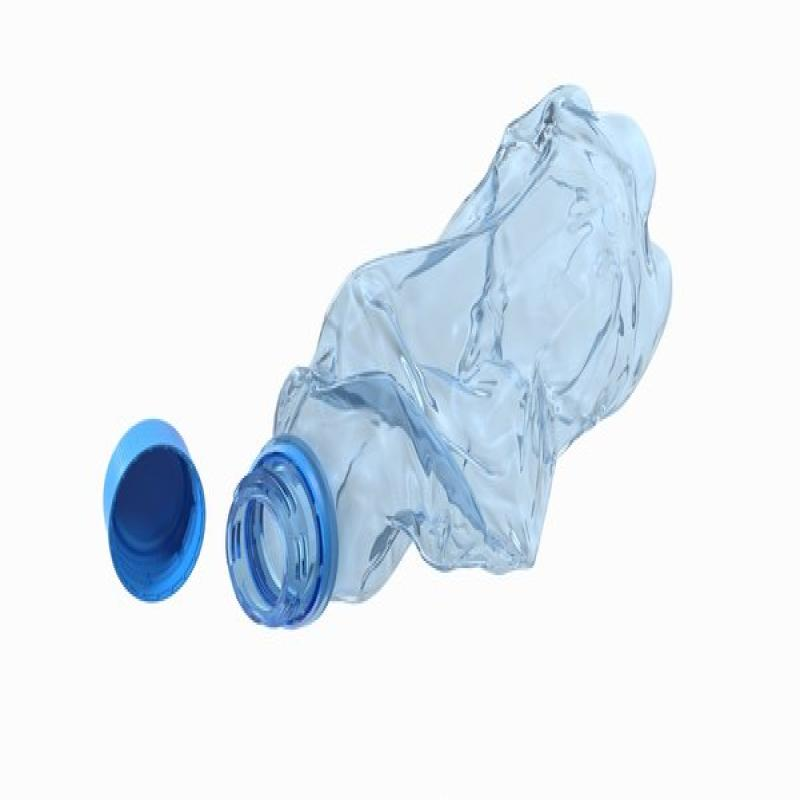plastic bottle: (225, 83, 673, 632)
